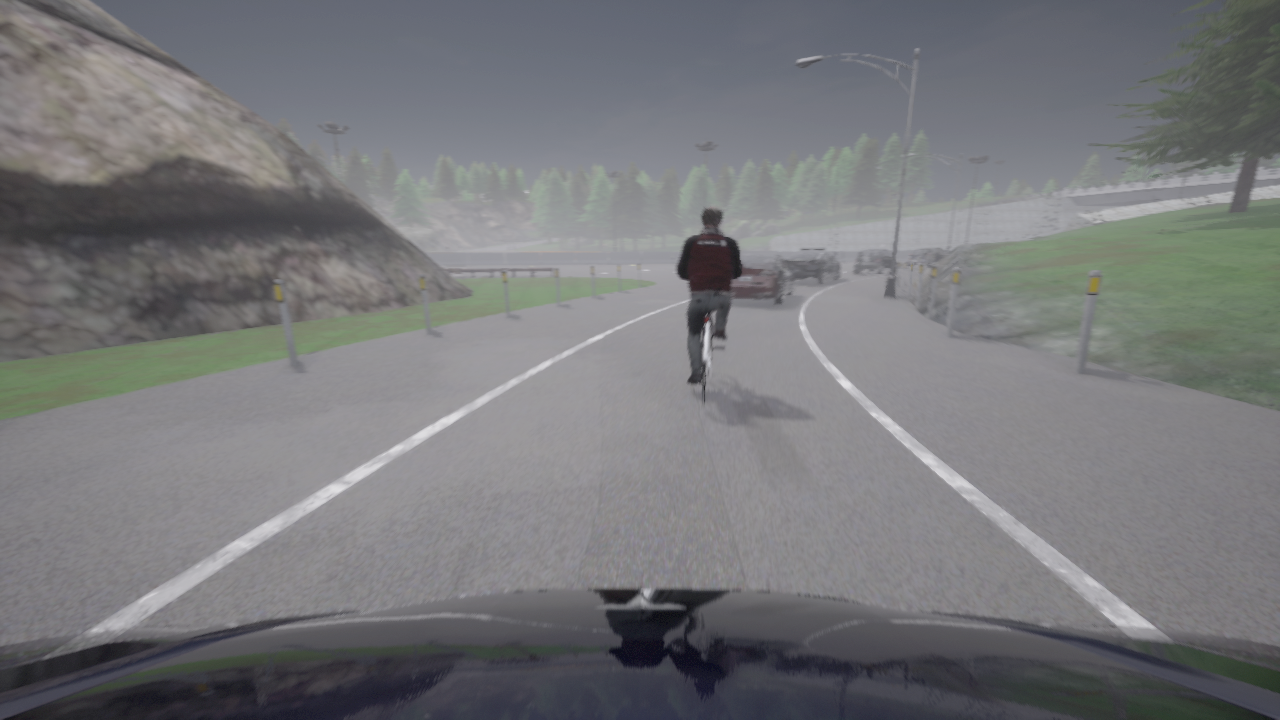cyclist: (0, 588, 1279, 719), (732, 252, 794, 304), (690, 312, 724, 406), (785, 247, 839, 283), (853, 249, 898, 273), (906, 247, 946, 268)
